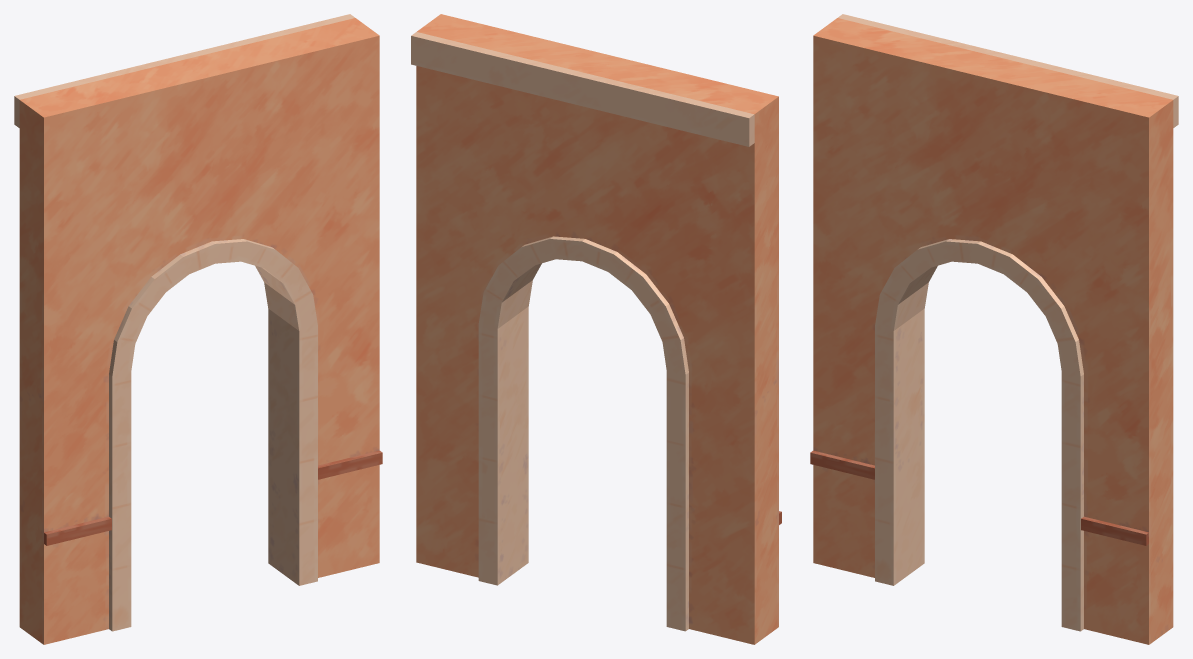
File: wall2_upper_door.bundle.fbx
3 renders of one model, left to right at view 1: azimuth 30°, elevation 25°; view 2: azimuth 150°, elevation 25°; view 3: azimuth 330°, elevation 25°, orthographic.
Visible parts, largest first — view 1: wall2_upper_door, wall2_upper_door_s08, wall2_upper_door_s03, wall2_upper_door_s10, wall2_upper_door_s06, wall2_upper_door_s04, wall2_upper_door_s02, wall2_upper_door_s01, wall2_upper_door_s05, wall2_upper_door_s07; view 2: wall2_upper_door, wall2_upper_door_s04, wall2_upper_door_s08, wall2_upper_door_s01, wall2_upper_door_s10, wall2_upper_door_s07, wall2_upper_door_s02, wall2_upper_door_s03, wall2_upper_door_s06, wall2_upper_door_s05, wall2_upper_door_s00; view 3: wall2_upper_door, wall2_upper_door_s08, wall2_upper_door_s03, wall2_upper_door_s04, wall2_upper_door_s06, wall2_upper_door_s01, wall2_upper_door_s07, wall2_upper_door_s10, wall2_upper_door_s02, wall2_upper_door_s05.
Part boxes in pixels (bbox=[...]): wall2_upper_door: bbox=[14, 14, 382, 644]; wall2_upper_door_s08: bbox=[19, 170, 219, 430]; wall2_upper_door_s03: bbox=[19, 35, 379, 197]; wall2_upper_door_s10: bbox=[268, 304, 379, 477]; wall2_upper_door_s06: bbox=[314, 106, 379, 307]; wall2_upper_door_s04: bbox=[19, 343, 131, 557]; wall2_upper_door_s02: bbox=[268, 441, 382, 585]; wall2_upper_door_s01: bbox=[111, 143, 330, 274]; wall2_upper_door_s05: bbox=[268, 265, 351, 338]; wall2_upper_door_s07: bbox=[19, 556, 131, 644]; wall2_upper_door: bbox=[411, 14, 781, 644]; wall2_upper_door_s04: bbox=[666, 360, 756, 568]; wall2_upper_door_s08: bbox=[585, 183, 760, 435]; wall2_upper_door_s01: bbox=[433, 122, 683, 268]; wall2_upper_door_s10: bbox=[416, 310, 527, 464]; wall2_upper_door_s07: bbox=[666, 550, 778, 644]; wall2_upper_door_s02: bbox=[416, 436, 528, 584]; wall2_upper_door_s03: bbox=[416, 66, 778, 188]; wall2_upper_door_s06: bbox=[416, 109, 450, 289]; wall2_upper_door_s05: bbox=[418, 255, 533, 363]; wall2_upper_door_s00: bbox=[482, 431, 520, 478]; wall2_upper_door: bbox=[810, 14, 1178, 644]; wall2_upper_door_s08: bbox=[813, 109, 980, 388]; wall2_upper_door_s03: bbox=[813, 36, 1173, 201]; wall2_upper_door_s04: bbox=[813, 274, 924, 512]; wall2_upper_door_s06: bbox=[1084, 176, 1173, 389]; wall2_upper_door_s01: bbox=[879, 148, 1097, 314]; wall2_upper_door_s07: bbox=[813, 491, 924, 585]; wall2_upper_door_s10: bbox=[1061, 372, 1167, 523]; wall2_upper_door_s02: bbox=[1062, 518, 1173, 644]; wall2_upper_door_s05: bbox=[1035, 302, 1173, 374].
Size of the model in its own units: 8 by 12 by 1.36.
1 material, 1 textured.
